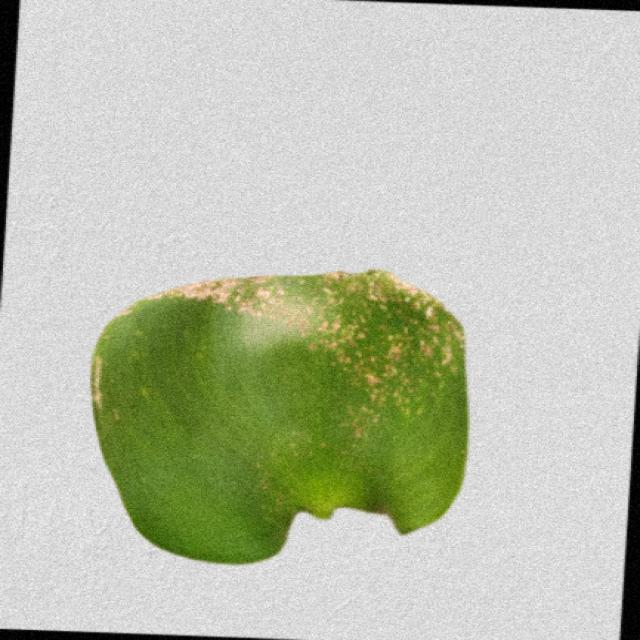daun berpenyakit bercak: (92, 271, 468, 563)
